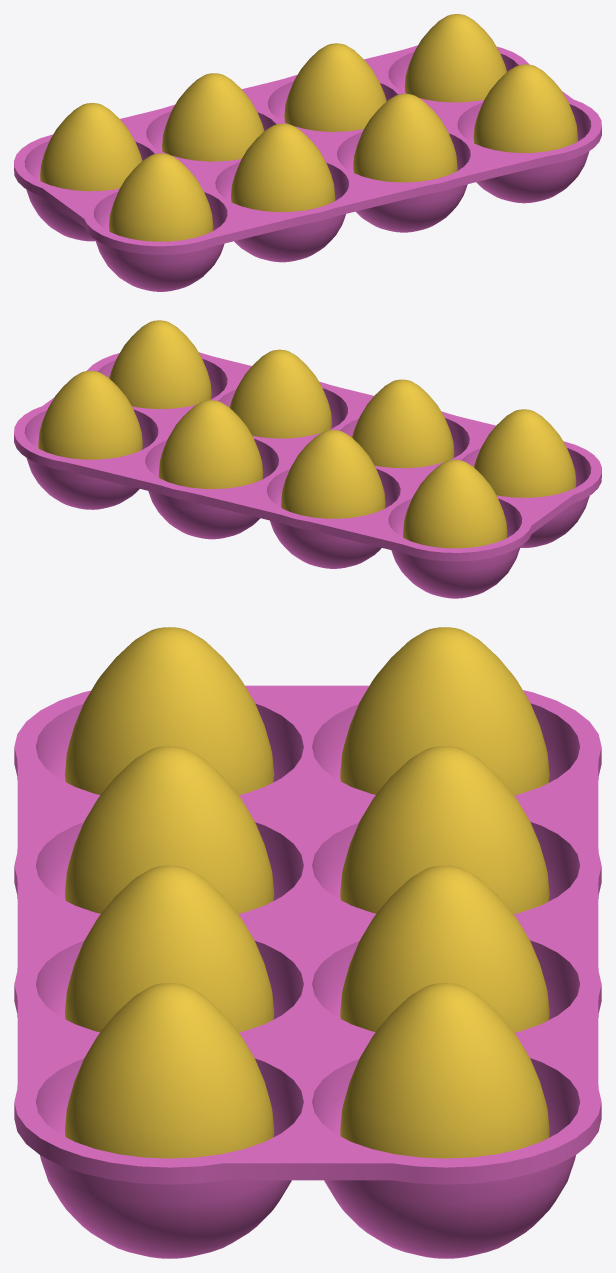
Rendered from Huevos.fbx.
The picture shows the model from 3 angles, top to bottom: view 1: azimuth 30°, elevation 25°; view 2: azimuth 150°, elevation 25°; view 3: azimuth 270°, elevation 25°; orthographic projection. The views are drawn at different scales.
Parts seen in each view (by area): view 1: Sphere.012; view 2: Sphere.012; view 3: Sphere.012.
Part boxes in pixels (x1,y1,x2,y2): Sphere.012: (14,14,601,291); Sphere.012: (14,320,601,598); Sphere.012: (14,627,601,1258).
Size of the model in its own units: 205 by 51.11 by 105.
